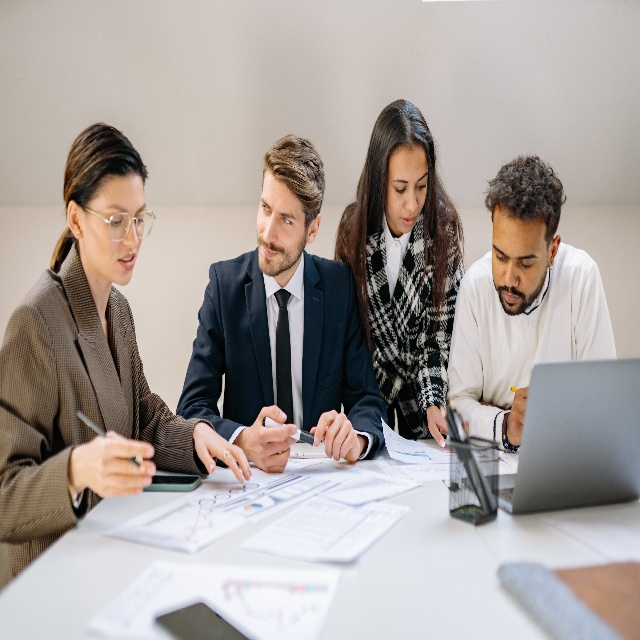Gafas: (81, 204, 156, 242)
Sin_guantes: (83, 431, 156, 500), (193, 422, 253, 487), (247, 403, 297, 473), (310, 409, 361, 463), (507, 385, 530, 447), (426, 404, 449, 448)
